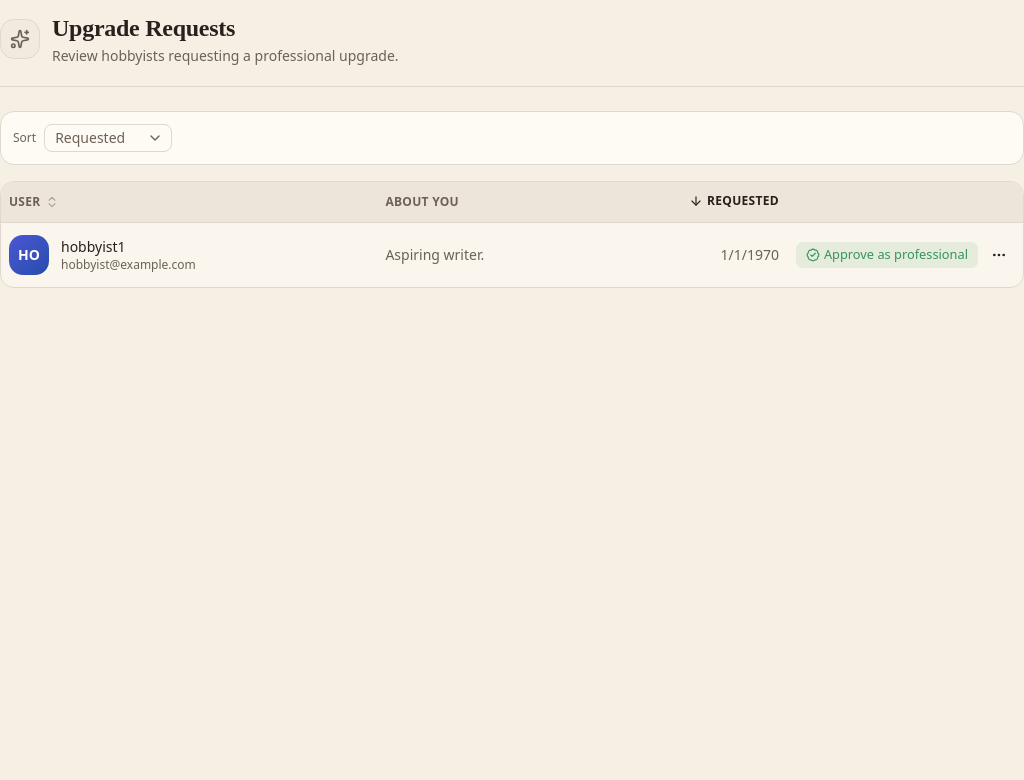
Scenario: UpgradeRequestsPage › approves an upgrade request via enable_monetization
What coordinates should you click on to do the following:
click the button "Approve as professional"
I would click on:
 (887, 254)
Its box is [795,240,979,268].
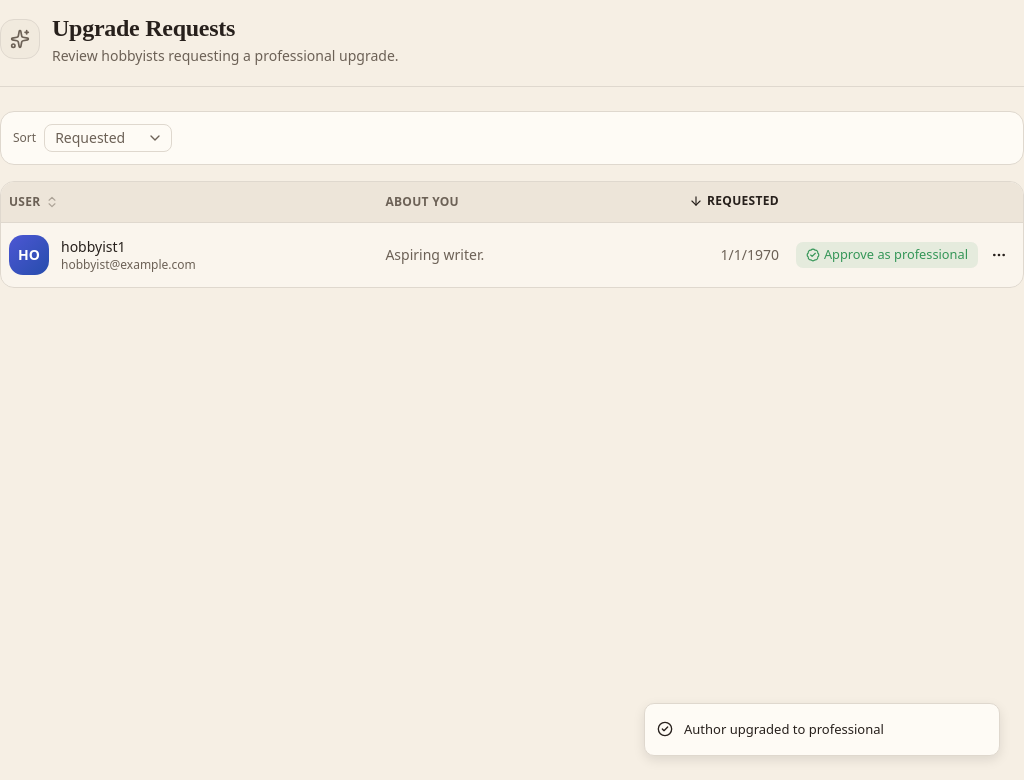
Check: the text "Author upgraded to professional" is shown, box [684,720,884,739]
